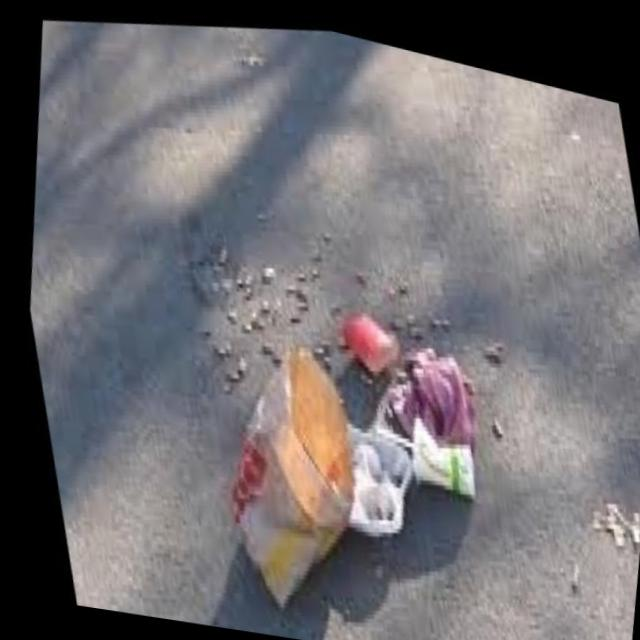foam box: (324, 285, 410, 369)
leaf: (333, 338, 535, 552), (308, 402, 435, 557)
plastic: (348, 316, 490, 462)
trash: (141, 312, 412, 640)
